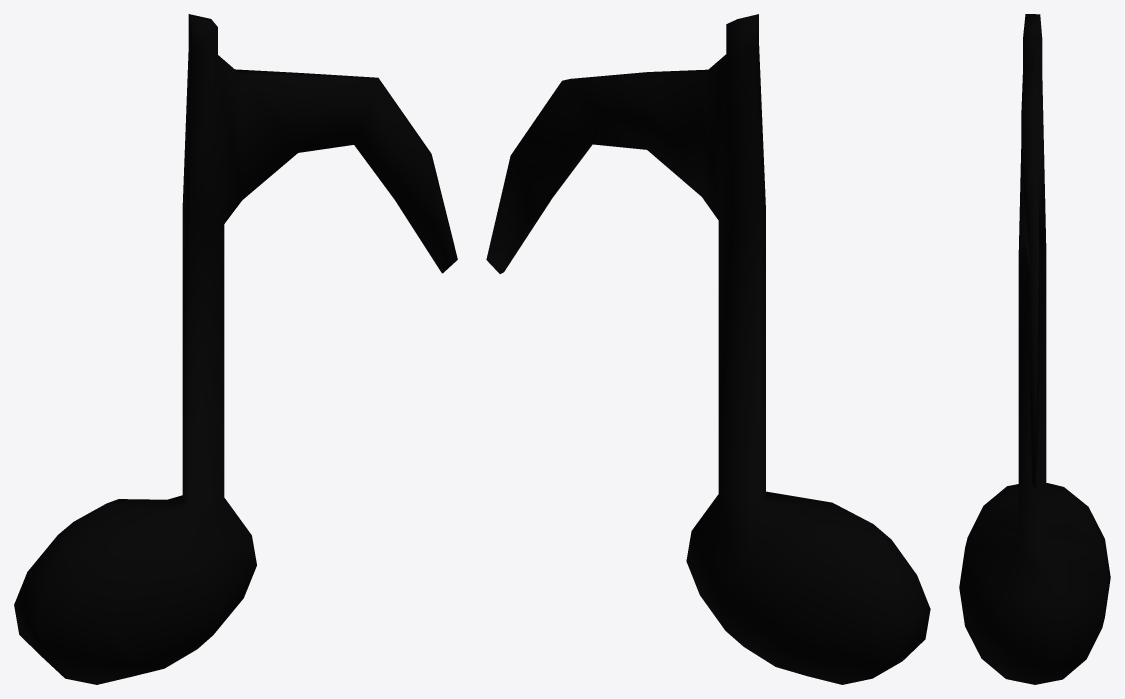
File: NotaMusical.fbx
3 renders of one model, left to right at view 1: azimuth 30°, elevation 25°; view 2: azimuth 150°, elevation 25°; view 3: azimuth 270°, elevation 25°, orthographic. The views are drawn at different scales.
Parts seen in each view (by area): view 1: NotaMusical; view 2: NotaMusical; view 3: NotaMusical.
Boxes of the visible parts, x1,y1,x2,y2 form: NotaMusical: (14, 14, 457, 684); NotaMusical: (486, 14, 930, 684); NotaMusical: (959, 14, 1110, 684).
Size of the model in its own units: 360 by 510 by 102.
